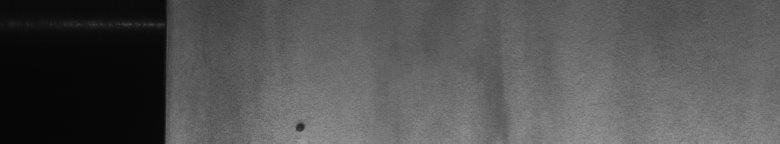fi: (289, 116, 311, 136)
